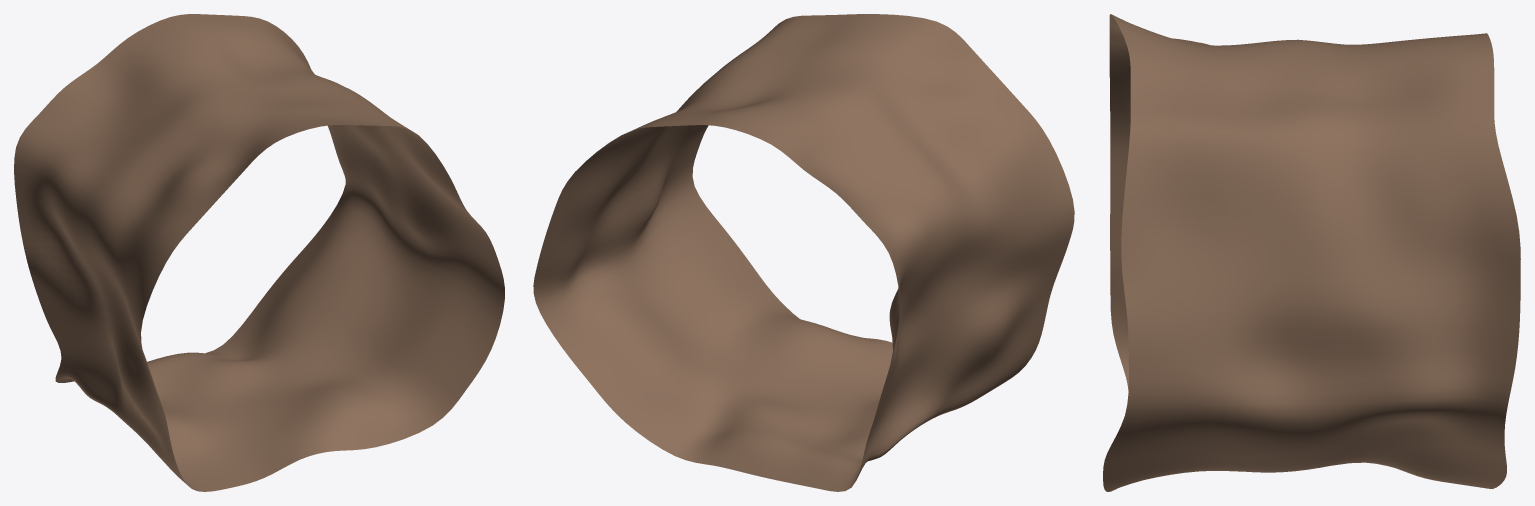
File: Small_Tunnel_03.fbx
The picture shows the model from 3 angles, left to right: view 1: azimuth 30°, elevation 25°; view 2: azimuth 150°, elevation 25°; view 3: azimuth 270°, elevation 25°; orthographic projection. The views are drawn at different scales.
Visible parts, largest first — view 1: smalltunnel1; view 2: smalltunnel1; view 3: smalltunnel1.
Part boxes in pixels (x1,y1,x2,y2): smalltunnel1: [14, 14, 504, 491]; smalltunnel1: [533, 14, 1074, 491]; smalltunnel1: [1103, 14, 1520, 491].
Size of the model in its own units: 181 by 161 by 146.
